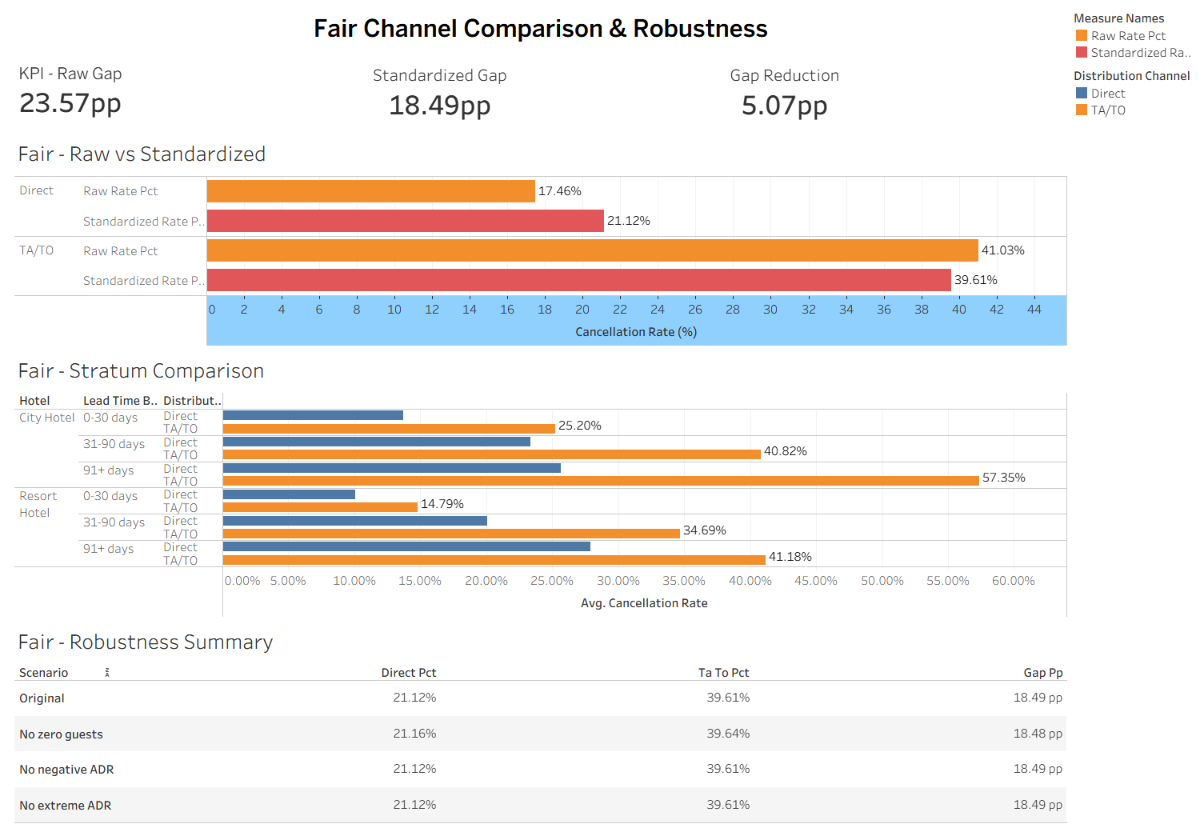

This screenshot's page, from the dashboard's own definition file:
{"tool":"tableau","page":{"name":"Dashboard 2","canvas":[1500,1200],"ordinal":1},"visuals":[{"type":"title","box":[8,8,1324,55]},{"type":"legend","title":"Fair - Raw vs Standardized","param":"[federated.1ai5nb307wvuwy16610my0vhzupt].[:Measure Names]","box":[1332,8,160,72]},{"type":"worksheet","title":"KPI - Raw Gap","mark":"Automatic","box":[8,75,442,91]},{"type":"worksheet","title":"KPI - Standardized Gap","mark":"Automatic","box":[450,75,441,91]},{"type":"worksheet","title":"KPI - Gap Reduction","mark":"Automatic","box":[891,75,441,91]},{"type":"legend","title":"Fair - Stratum Comparison","param":"[federated.0i5i4500u3wigp1dx6sz01lvvcrn].[none:distribution_channel:nk]","box":[1332,80,160,72]},{"type":"worksheet","title":"Fair - Raw vs Standardized","mark":"Bar","rows":["distribution_channel"],"box":[8,166.1,1324,271]},{"type":"worksheet","title":"Fair - Stratum Comparison","mark":"Bar","rows":["hotel","lead_time_bucket","distribution_channel"],"cols":["cancellation_rate"],"box":[8,437.1,1324,339]},{"type":"worksheet","title":"Fair - Robustness Summary","mark":"Automatic","rows":["scenario"],"box":[8,776.1,1324,257.2]},{"type":"text","box":[8,1033.4,1484,158.6]}]}

Visuals, with their boxes on the page's 1500x1200 design canvas (x1, y1, x2, y2). These are canvas units, not pixel positions in the 1198x826 screenshot, which may show the page scaled, cropped or inside an application window:
title: (x1=8, y1=8, x2=1332, y2=63)
"Fair - Raw vs Standardized" legend: (x1=1332, y1=8, x2=1492, y2=80)
"KPI - Raw Gap" worksheet: (x1=8, y1=75, x2=450, y2=166)
"KPI - Standardized Gap" worksheet: (x1=450, y1=75, x2=891, y2=166)
"KPI - Gap Reduction" worksheet: (x1=891, y1=75, x2=1332, y2=166)
"Fair - Stratum Comparison" legend: (x1=1332, y1=80, x2=1492, y2=152)
"Fair - Raw vs Standardized" worksheet (Bar marks): (x1=8, y1=166, x2=1332, y2=437)
"Fair - Stratum Comparison" worksheet (Bar marks): (x1=8, y1=437, x2=1332, y2=776)
"Fair - Robustness Summary" worksheet: (x1=8, y1=776, x2=1332, y2=1033)
text: (x1=8, y1=1033, x2=1492, y2=1192)
